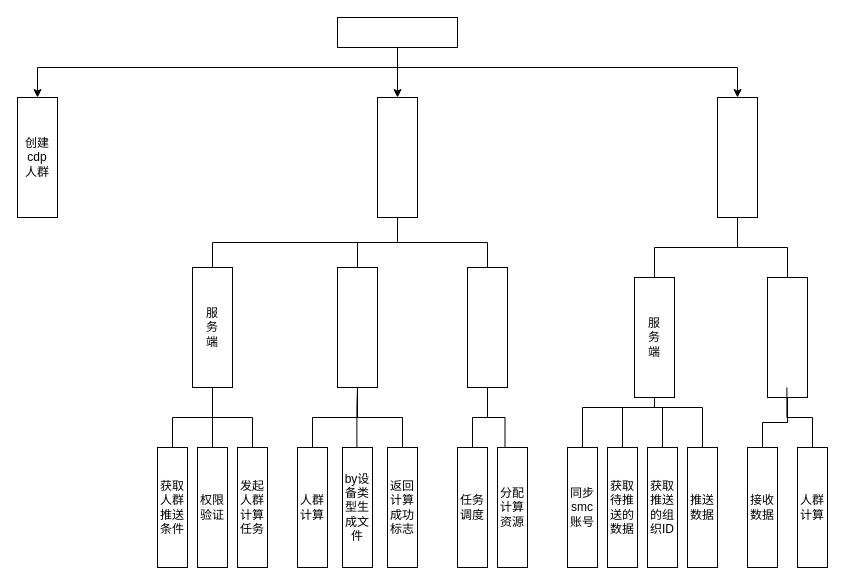
The diagram is 845 pixels wide and 585 high, and some of its shapes have lost their labels. The shapes that lost their labels are listed below. From the top down, each one's centre as x and y in pixels, then its label:
the point at 397,32: CDP对接SMC
the point at 397,157: 处理 人群 数据
the point at 737,157: 推送 数据
the point at 357,327: spark
the point at 487,327: a z k a b a n
the point at 787,337: 推 送 明 细 管 理
